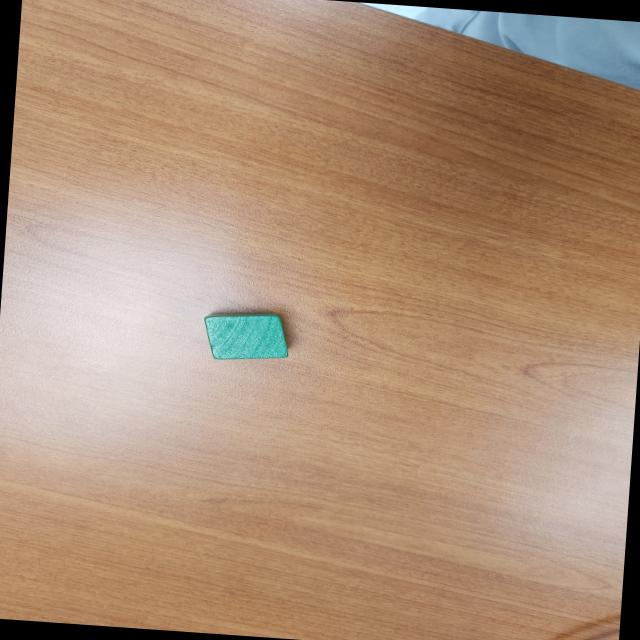green: (199, 308, 289, 362)
